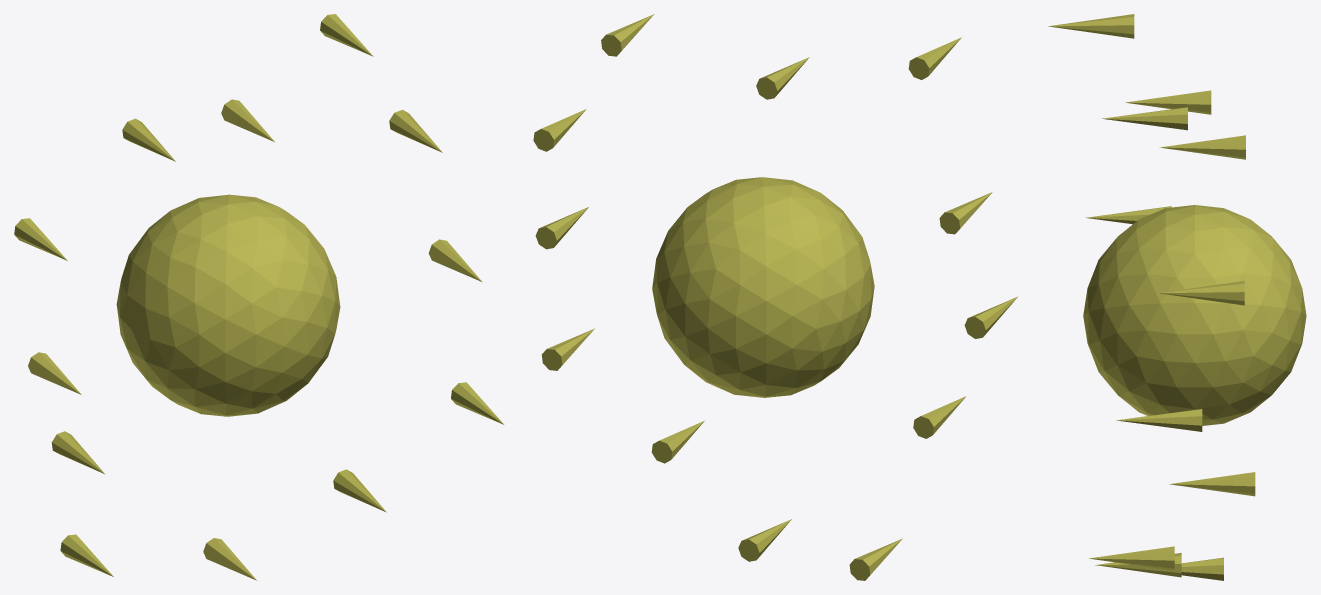
Rendered from nature_170.glb.
3 renders of one model, left to right at view 1: azimuth 30°, elevation 25°; view 2: azimuth 150°, elevation 25°; view 3: azimuth 270°, elevation 25°, orthographic.
Visible parts, largest first — view 1: world; view 2: world; view 3: world.
Part boxes in pixels (x1,y1,x2,y2): world: [14, 14, 503, 580]; world: [533, 14, 1017, 580]; world: [1048, 14, 1306, 580].
Size of the model in its own units: 2.07 by 2.25 by 1.04.
